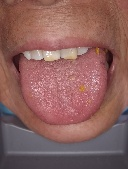tongue: (19, 64, 108, 125)
